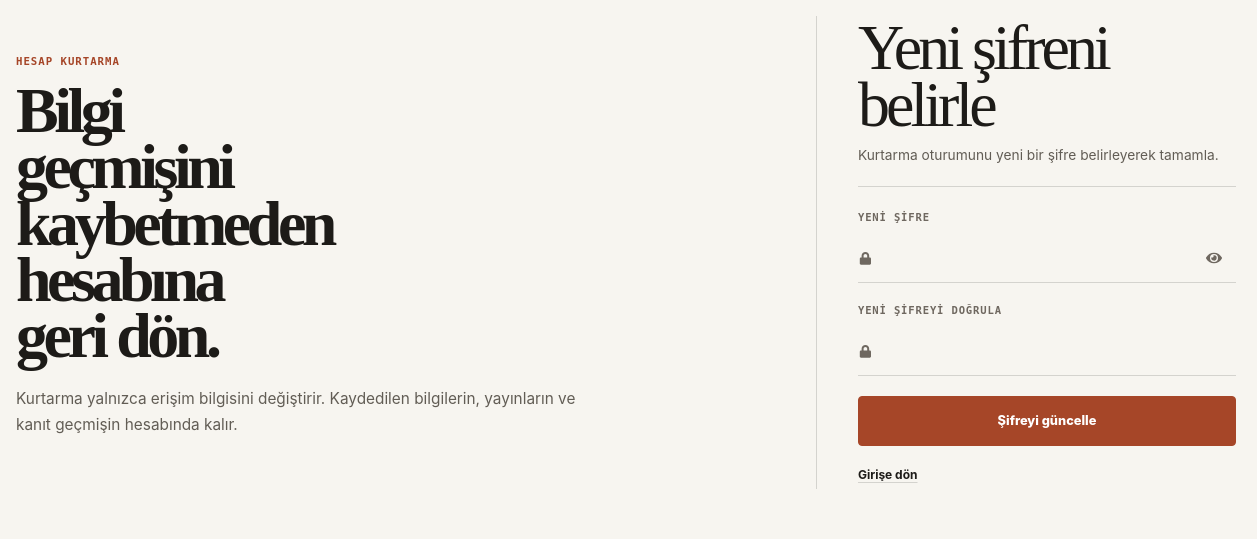
Test: PasswordRecoveryPage › routes reset-password validation to the field that needs correction
The width and height of the screenshot is (1257, 539).
Click the button "Şifreyi güncelle".
click(1047, 421)  # box [858,396,1236,446]
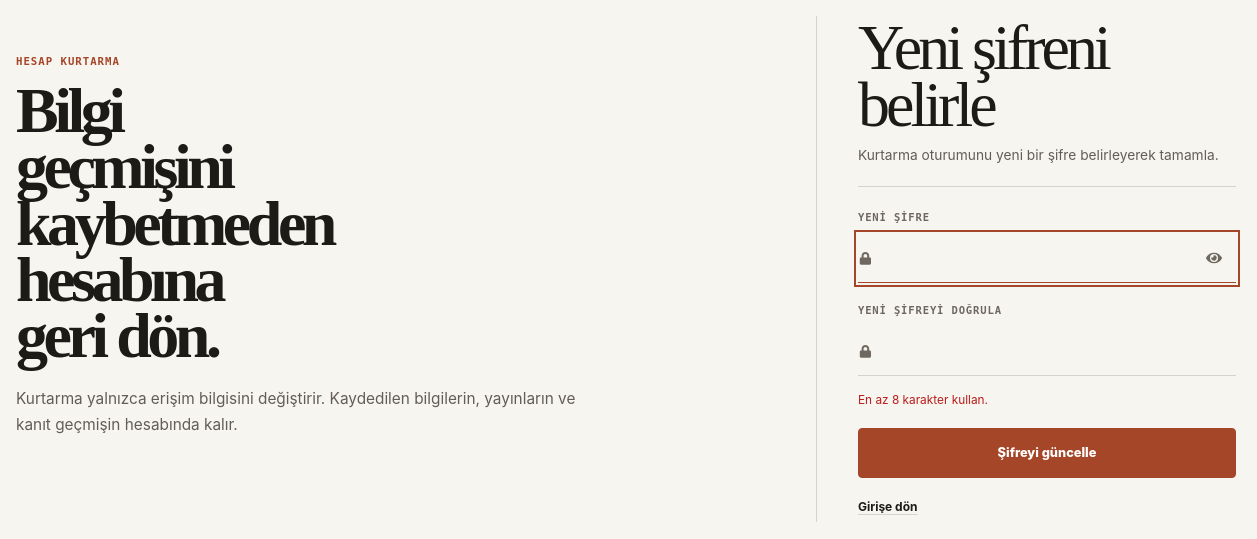
Type "secure-pass-123" into the password field labelled "Yeni şifre".
click(1047, 258); type("secure-pass-123")  # box [858,234,1236,283]
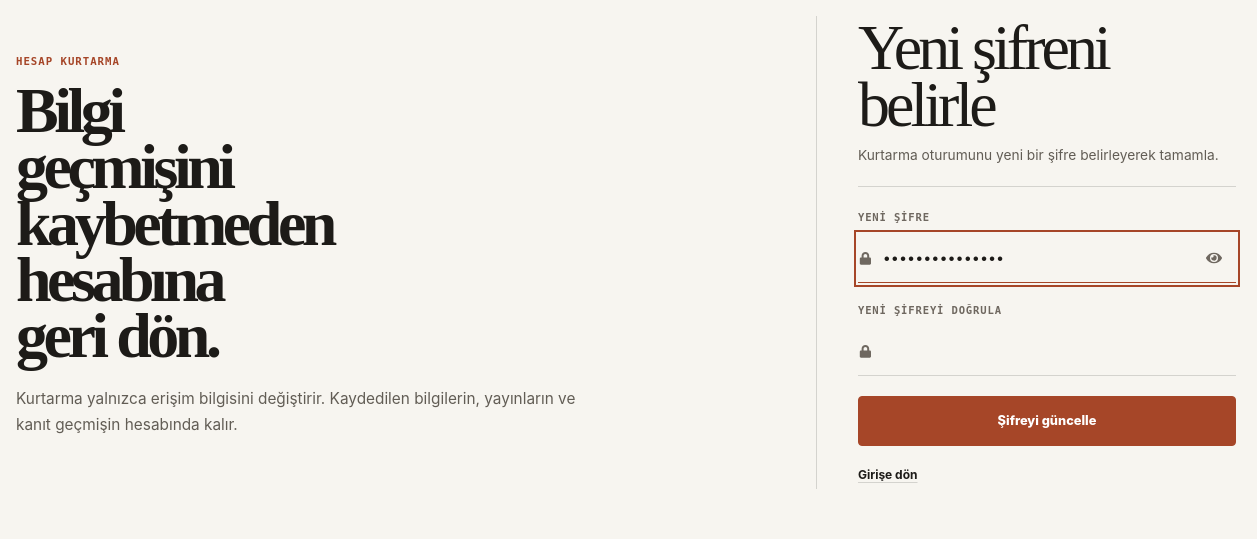
Type "different-pass-456" into the password field labelled "Yeni şifreyi doğrula".
click(1047, 352); type("different-pass-456")  # box [858,327,1236,376]
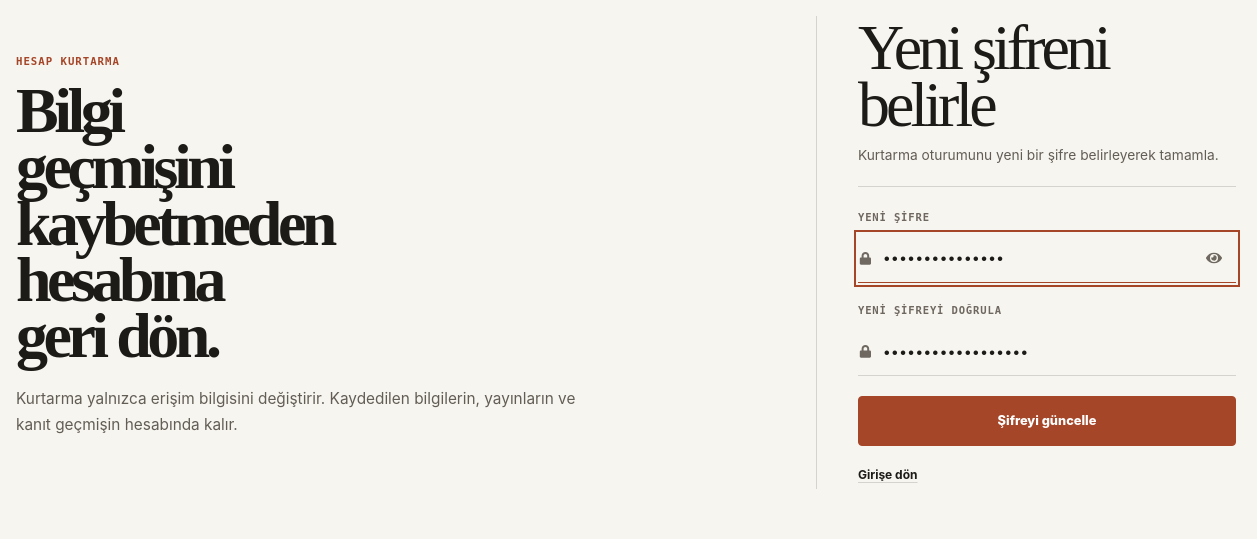
Click the button "Şifreyi güncelle".
click(1047, 421)  # box [858,396,1236,446]
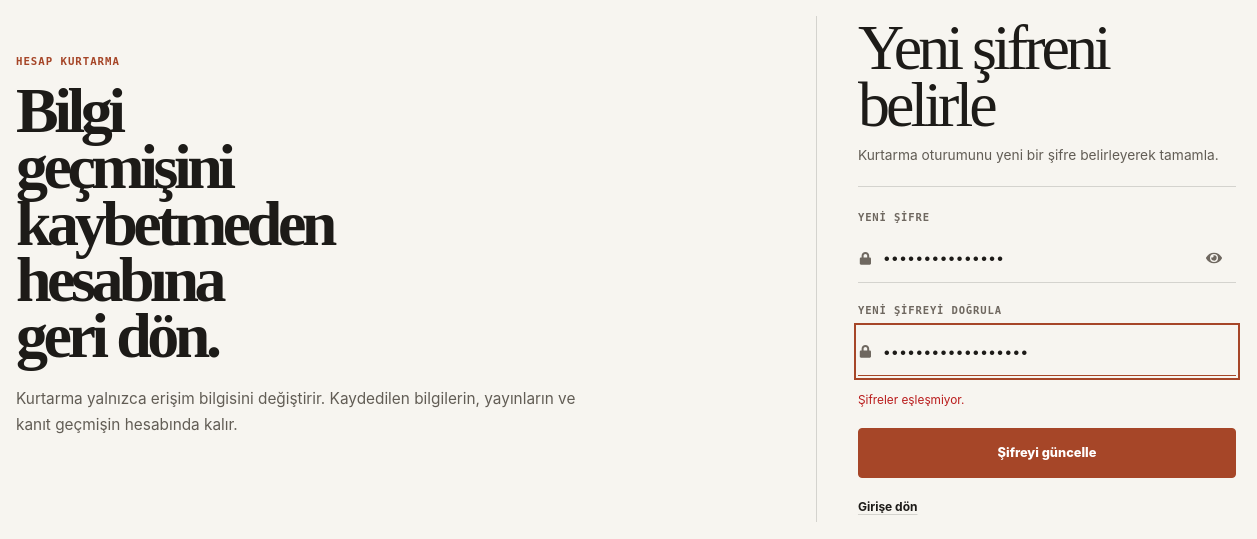
Expected: the message reads "Şifreler eşleşmiyor.", [858,393,964,407]
